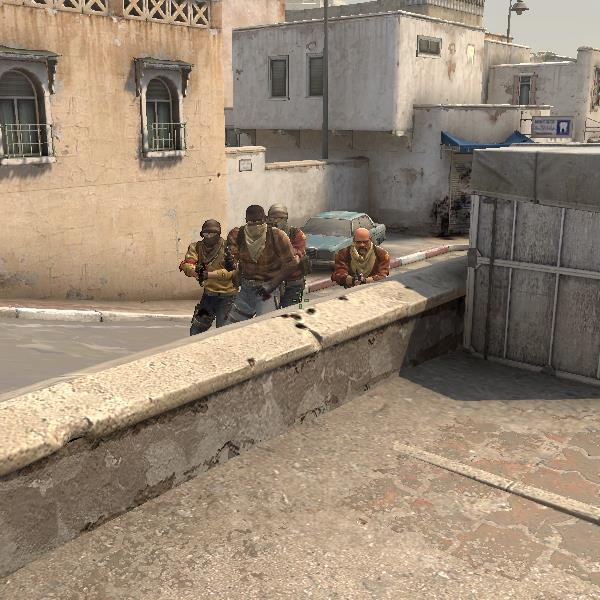t_body: (262, 199, 313, 298)
t_head: (259, 201, 296, 237)
